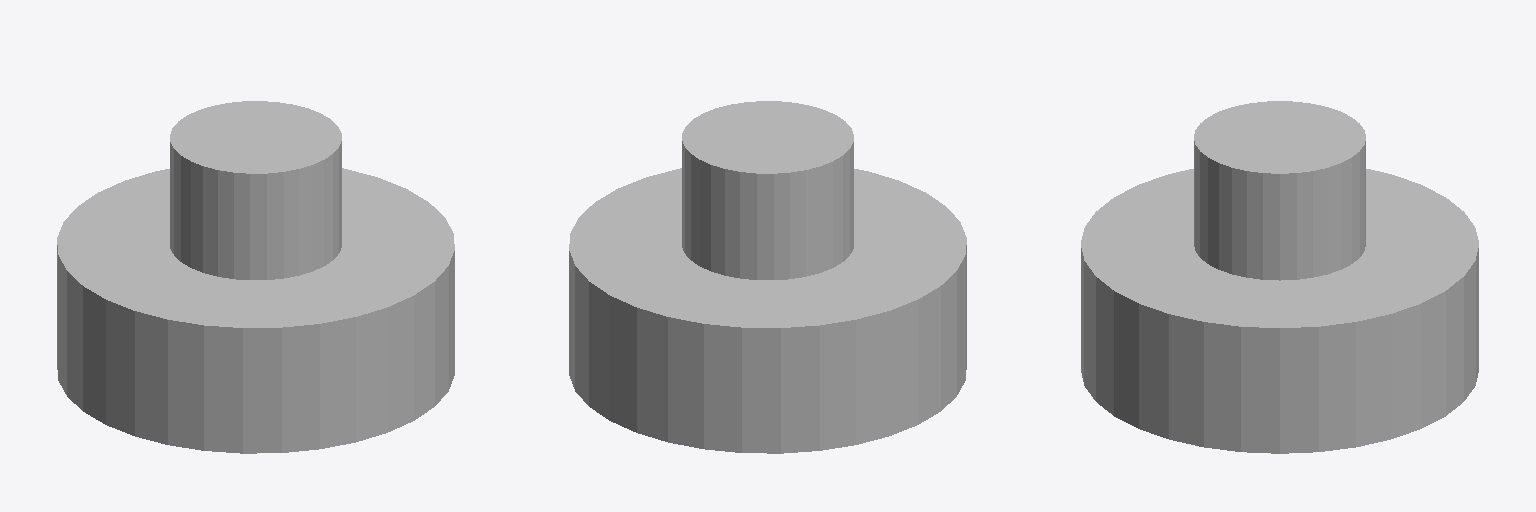
File: stan.obj
The picture shows the model from 3 angles: view 1: azimuth 30°, elevation 25°; view 2: azimuth 150°, elevation 25°; view 3: azimuth 270°, elevation 25°; orthographic projection.
Parts seen in each view (by area): view 1: Cylinder, Cylinder.001; view 2: Cylinder, Cylinder.001; view 3: Cylinder, Cylinder.001.
Part boxes in pixels (x1,y1,x2,y2): Cylinder: (57, 168, 454, 453); Cylinder.001: (170, 101, 341, 279); Cylinder: (569, 168, 966, 453); Cylinder.001: (682, 101, 853, 279); Cylinder: (1081, 169, 1478, 453); Cylinder.001: (1194, 101, 1365, 280).
Size of the model in its own units: 0.3143 by 0.2063 by 0.3143.